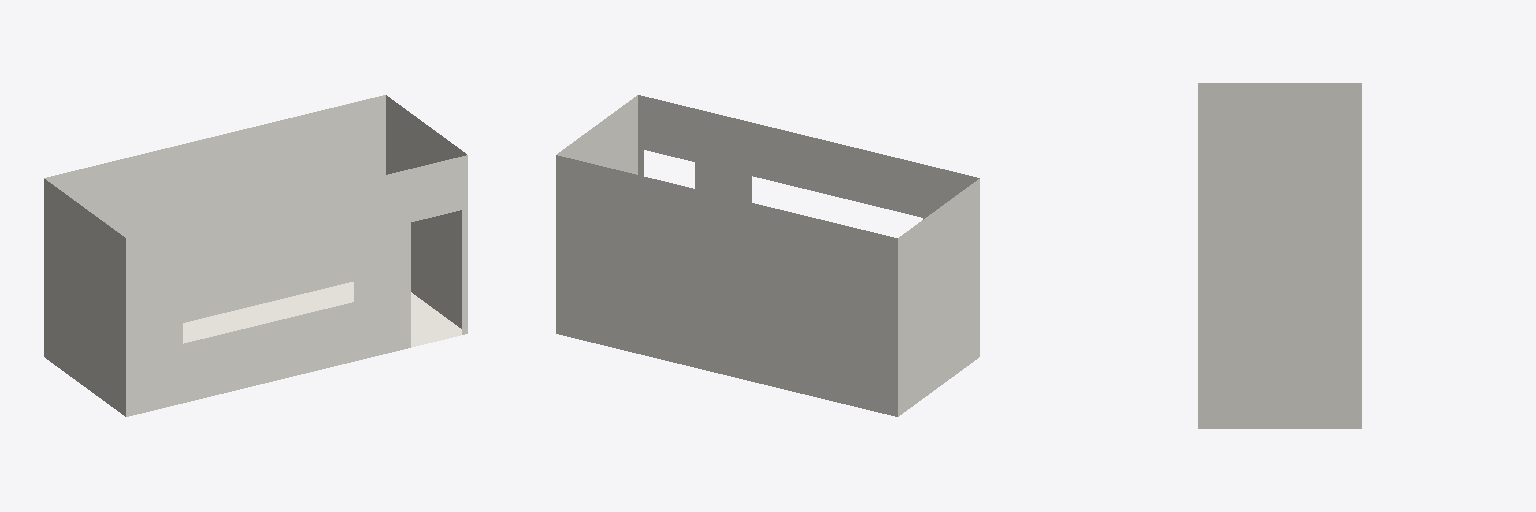
Rendered from Room3_cut.obj.
3 renders of one model, left to right at view 1: azimuth 30°, elevation 25°; view 2: azimuth 150°, elevation 25°; view 3: azimuth 270°, elevation 25°, orthographic.
Visible parts, largest first — view 1: Room3_cut; view 2: Room3_cut; view 3: Room3_cut.
Part boxes in pixels (bbox=[...]): Room3_cut: bbox=[44, 95, 467, 416]; Room3_cut: bbox=[556, 95, 979, 416]; Room3_cut: bbox=[1198, 83, 1361, 428].
Size of the model in its own units: 60 by 30 by 25.